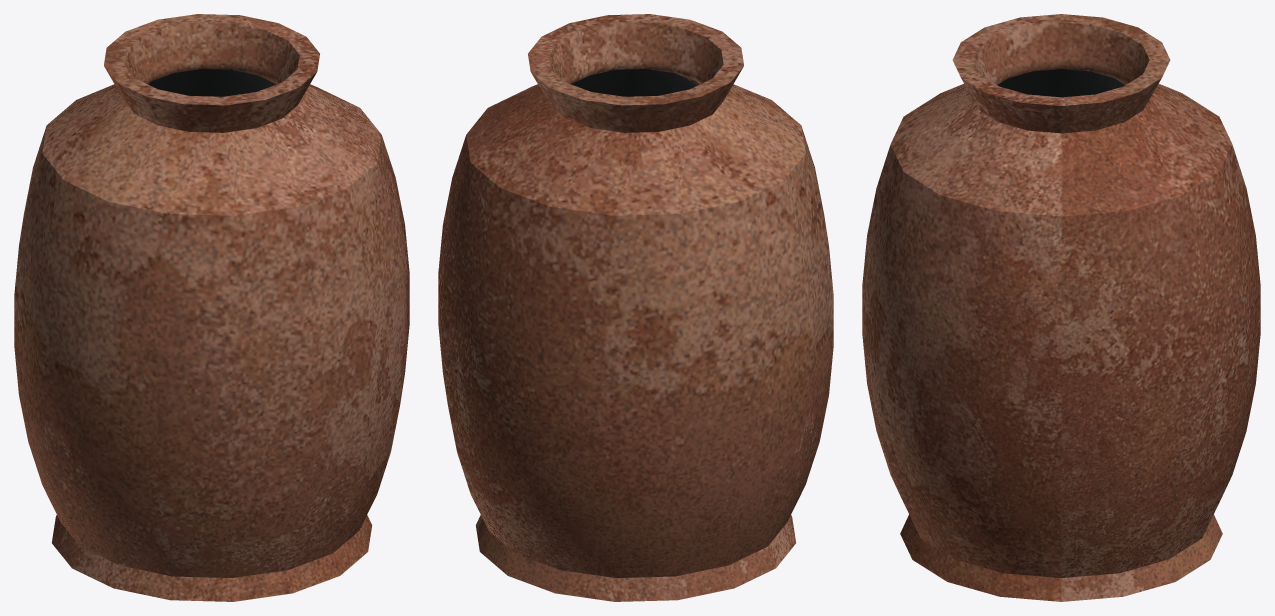
File: Large Clay Pot.fbx
3 views of the same model, side by side, from view 1: azimuth 30°, elevation 25°; view 2: azimuth 150°, elevation 25°; view 3: azimuth 270°, elevation 25° (orthographic).
Parts seen in each view (by area): view 1: Large_Pot_1; view 2: Large_Pot_1; view 3: Large_Pot_1.
Boxes of the visible parts, box(x1,y1,x2,y2) form: Large_Pot_1: box(14, 14, 409, 601); Large_Pot_1: box(438, 14, 833, 601); Large_Pot_1: box(862, 14, 1260, 601).
Bounding box in the file's own units: 98.58 × 129 × 98.58.
Materials: 1 (1 with a texture image).
